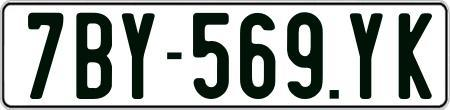5: (191, 10, 227, 102)
6: (238, 13, 273, 100)
7: (27, 12, 65, 101)
9: (285, 11, 326, 98)
B: (73, 12, 114, 104)
K: (398, 12, 435, 102)
Y: (121, 12, 156, 102), (350, 12, 384, 104)
